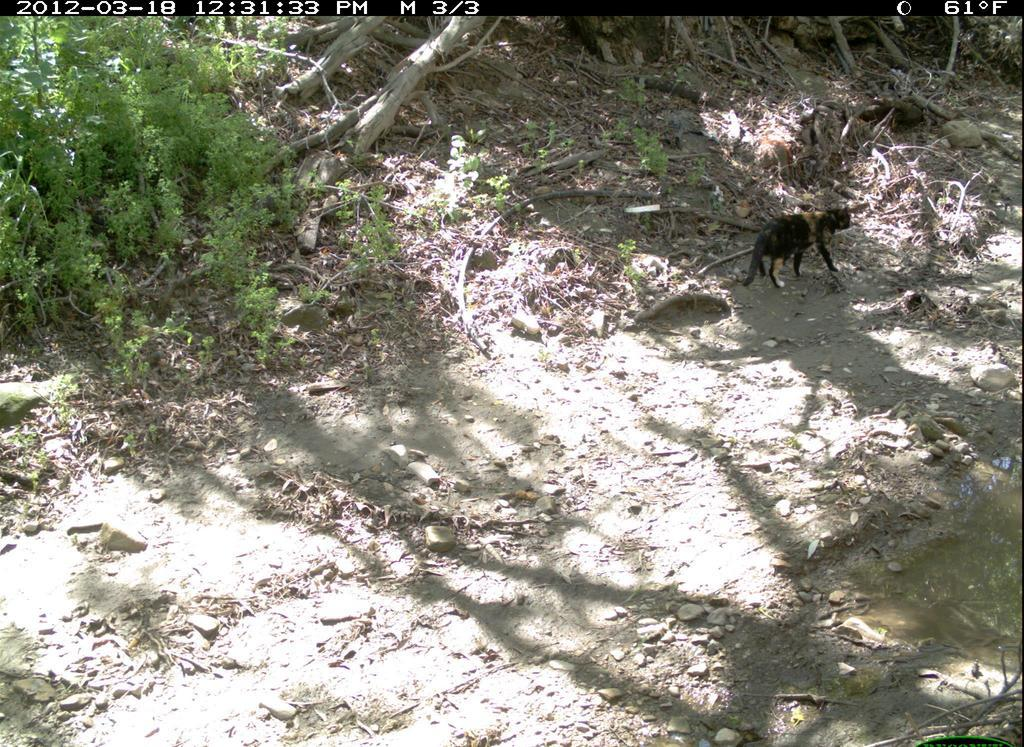cat: (742, 200, 854, 297)
